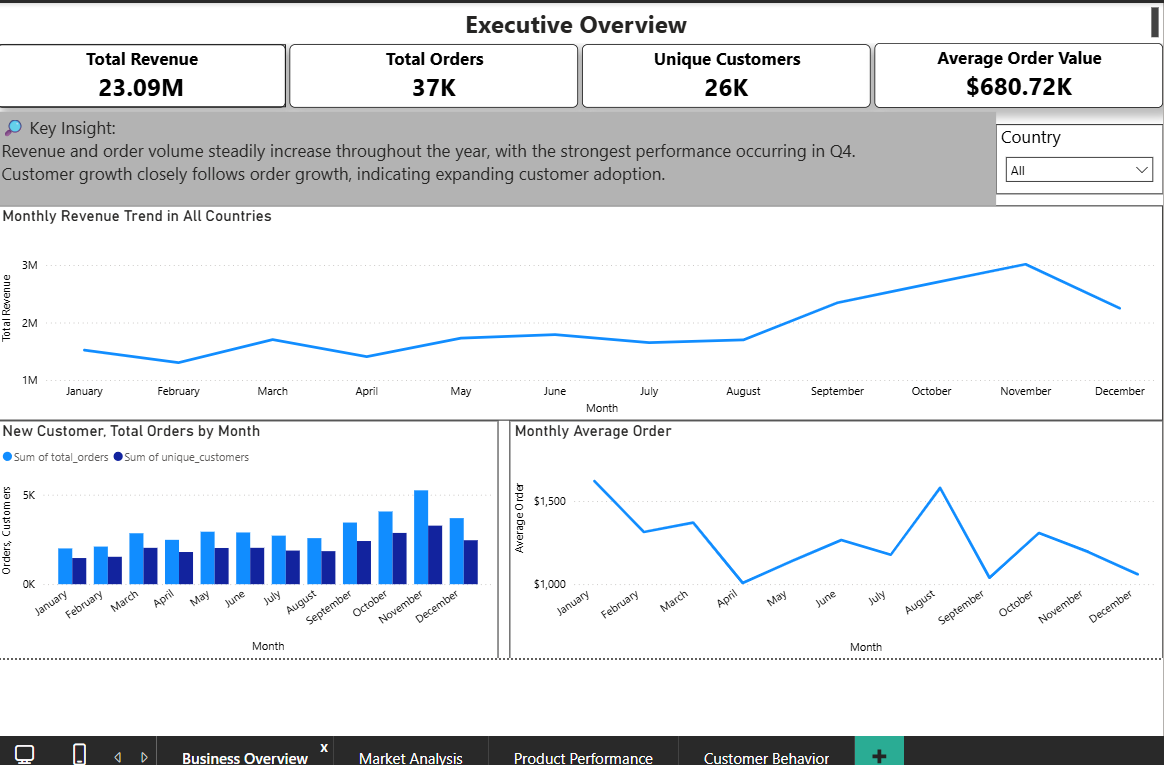

This screenshot's page, from the dashboard's own definition file:
{"tool":"powerbi","page":{"name":"Business Overview","canvas":[1280,720],"ordinal":0},"visuals":[{"type":"card","title":"Total Revenue","fields":{"Values":["Sum(retail_intelligence executive_overview_vw.total_revenue)"]},"box":[0,45.3,317,70],"z":0},{"type":"card","title":"Total Orders","fields":{"Values":["Sum(retail_intelligence executive_overview_vw.total_orders)"]},"box":[321.1,45.3,317,70],"z":1000},{"type":"card","title":"Unique Customers","fields":{"Values":["Sum(retail_intelligence executive_overview_vw.unique_customers)"]},"box":[642.2,45.3,317,70],"z":2000},{"type":"card","title":"Average Order Value","fields":{"Values":["Sum(retail_intelligence executive_overview_vw.avg_order_value)"]},"box":[963,43.9,317,71.4],"z":3000},{"type":"textbox","box":[0,0,1280.3,43.9],"z":4000},{"type":"lineChart","fields":{"Category":["retail_intelligence executive_overview_vw.MonthName"],"Y":["Sum(retail_intelligence executive_overview_vw.total_revenue)"]},"box":[0,222.3,1280.3,236],"z":5000},{"type":"clusteredColumnChart","fields":{"Category":["retail_intelligence executive_overview_vw.MonthName"],"Y":["Sum(retail_intelligence executive_overview_vw.total_orders)","Sum(retail_intelligence executive_overview_vw.unique_customers)"]},"box":[0,458.3,550.3,262.1],"z":6000},{"type":"lineChart","fields":{"Category":["retail_intelligence executive_overview_vw.MonthName"],"Y":["Avg(retail_intelligence executive_overview_vw.avg_order_value)"]},"box":[562.6,458.3,717.7,262.1],"z":7000},{"type":"slicer","title":"Country","fields":{"Values":["retail_intelligence executive_overview_vw.country"]},"box":[1096.4,133.1,183.9,76.8],"z":8000},{"type":"textbox","box":[0,119.4,1096.4,102.9],"z":8001}]}

Visuals, with their boxes on the page's 1280x720 design canvas (x1, y1, x2, y2). These are canvas units, not pixel positions in the 1164x765 screenshot, which may show the page scaled, cropped or inside an application window:
"Total Revenue" card: box=[0, 45, 317, 115]
"Total Orders" card: box=[321, 45, 638, 115]
"Unique Customers" card: box=[642, 45, 959, 115]
"Average Order Value" card: box=[963, 44, 1280, 115]
textbox: box=[0, 0, 1280, 44]
lineChart - retail_intelligence executive_overview_vw.MonthName x Sum(retail_intelligence executive_overview_vw.total_revenue): box=[0, 222, 1280, 458]
clusteredColumnChart - retail_intelligence executive_overview_vw.MonthName x Sum(retail_intelligence executive_overview_vw.total_orders): box=[0, 458, 550, 720]
lineChart - retail_intelligence executive_overview_vw.MonthName x Avg(retail_intelligence executive_overview_vw.avg_order_value): box=[563, 458, 1280, 720]
"Country" slicer: box=[1096, 133, 1280, 210]
textbox: box=[0, 119, 1096, 222]
